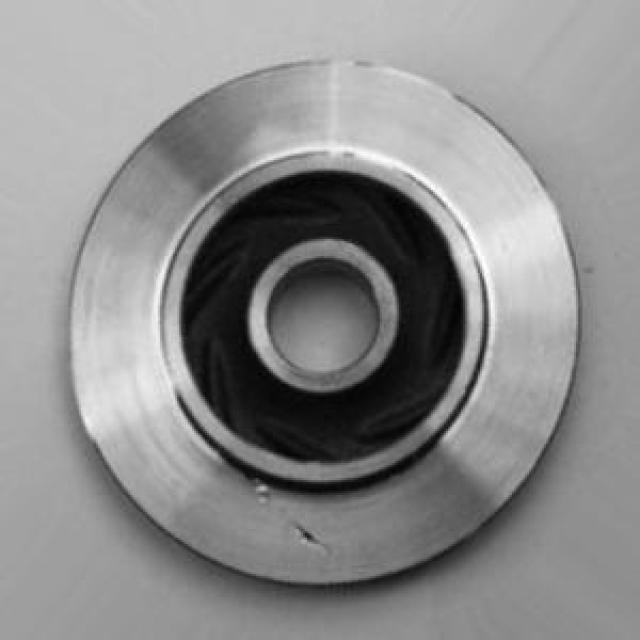Defect: (288, 507, 324, 564)
